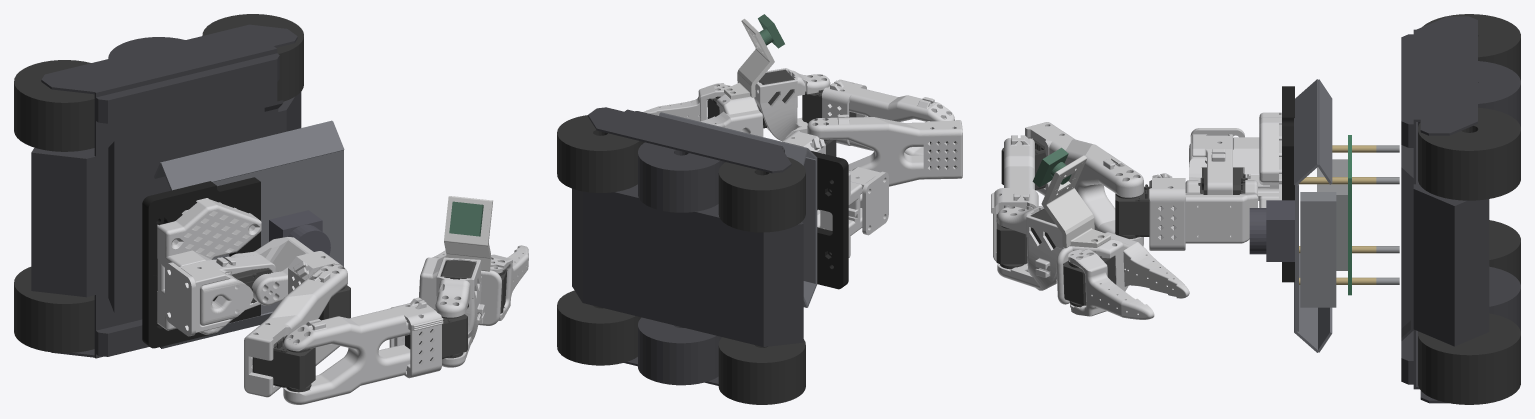
The model's file is so101_rover_assembly.glb.
The picture shows the model from 3 angles, left to right: view 1: azimuth 30°, elevation 25°; view 2: azimuth 150°, elevation 25°; view 3: azimuth 270°, elevation 25°; orthographic projection. The views are drawn at different scales.
Visible parts, largest first — view 1: base_link_jetson_kit.stl, base_link, base_so101_v2.stl, under_arm_so101_v1.stl, arm_mount_plate_link, left_down_wheel_link.stl, upper_arm_so101_v1.stl, right_down_wheel_link.stl, wrist_roll_pitch_so101_v2.stl, left_up_wheel_link.stl, motor_holder_so101_wrist_v1.stl, rotation_pitch_so101_v1.stl (+12 smaller); view 2: base_link_jetson_kit.stl, upper_arm_so101_v1.stl, left_down_wheel_link.stl, right_down_wheel_link.stl, left_up_wheel_link.stl, right_up_wheel_link.stl, arm_mount_plate_link, base_link, wrist_roll_pitch_so101_v2.stl, under_arm_so101_v1.stl, wrist_cam_mount_link, wrist_roll_follower_so101_v1.stl (+9 smaller); view 3: base_link_jetson_kit.stl, base_link, left_up_wheel_link.stl, right_up_wheel_link.stl, upper_arm_so101_v1.stl, 3d_camera_link.stl, rotation_pitch_so101_v1.stl, base_so101_v2.stl, wrist_roll_follower_so101_v1.stl, wrist_roll_pitch_so101_v2.stl, wrist_cam_mount_link, moving_jaw_so101_v1.stl (+13 smaller).
Part boxes in pixels (x1,y1,x2,y2): base_link_jetson_kit.stl: (31,24,301,358); base_link: (154,120,344,348); base_so101_v2.stl: (157,198,261,334); under_arm_so101_v1.stl: (283,308,410,404); arm_mount_plate_link: (142,177,260,348); left_down_wheel_link.stl: (14,60,94,151); upper_arm_so101_v1.stl: (244,264,347,397); right_down_wheel_link.stl: (14,267,94,352); wrist_roll_pitch_so101_v2.stl: (435,257,484,367); left_up_wheel_link.stl: (202,14,303,101); motor_holder_so101_wrist_v1.stl: (389,297,443,378); rotation_pitch_so101_v1.stl: (230,237,315,305); base_link_jetson_kit.stl: (572,107,803,385); upper_arm_so101_v1.stl: (807,114,962,186); left_down_wheel_link.stl: (718,157,805,232); right_down_wheel_link.stl: (718,337,805,404); left_up_wheel_link.stl: (557,115,644,192); right_up_wheel_link.stl: (557,290,641,365); arm_mount_plate_link: (811,151,848,289); base_link: (659,112,817,307); wrist_roll_pitch_so101_v2.stl: (754,68,830,140); under_arm_so101_v1.stl: (829,88,954,155); wrist_cam_mount_link: (724,18,774,99); wrist_roll_follower_so101_v1.stl: (700,94,763,136); base_link_jetson_kit.stl: (1401,16,1520,403); base_link: (1294,79,1399,352); left_up_wheel_link.stl: (1418,107,1520,200); right_up_wheel_link.stl: (1418,313,1520,404); upper_arm_so101_v1.stl: (1025,122,1143,246); 3d_camera_link.stl: (1300,192,1336,307); rotation_pitch_so101_v1.stl: (1159,180,1257,243); base_so101_v2.stl: (1189,112,1281,207); wrist_roll_follower_so101_v1.stl: (1056,232,1189,304); wrist_roll_pitch_so101_v2.stl: (997,205,1063,290); wrist_cam_mount_link: (1041,155,1110,248); moving_jaw_so101_v1.stl: (1068,249,1154,319).
Size of the model in its own units: 0.3173 by 0.2304 by 0.4101.
